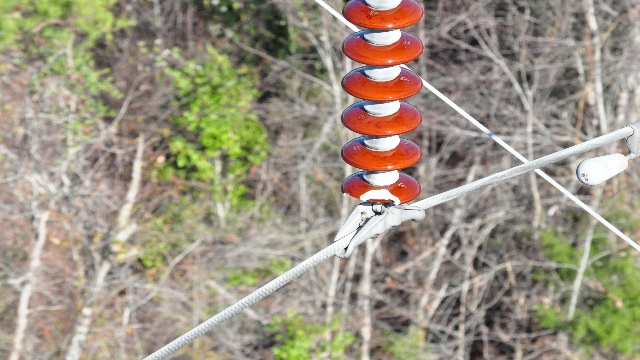broken_local: (343, 187, 403, 205)
insulator_unspecified: (339, 1, 423, 204)
